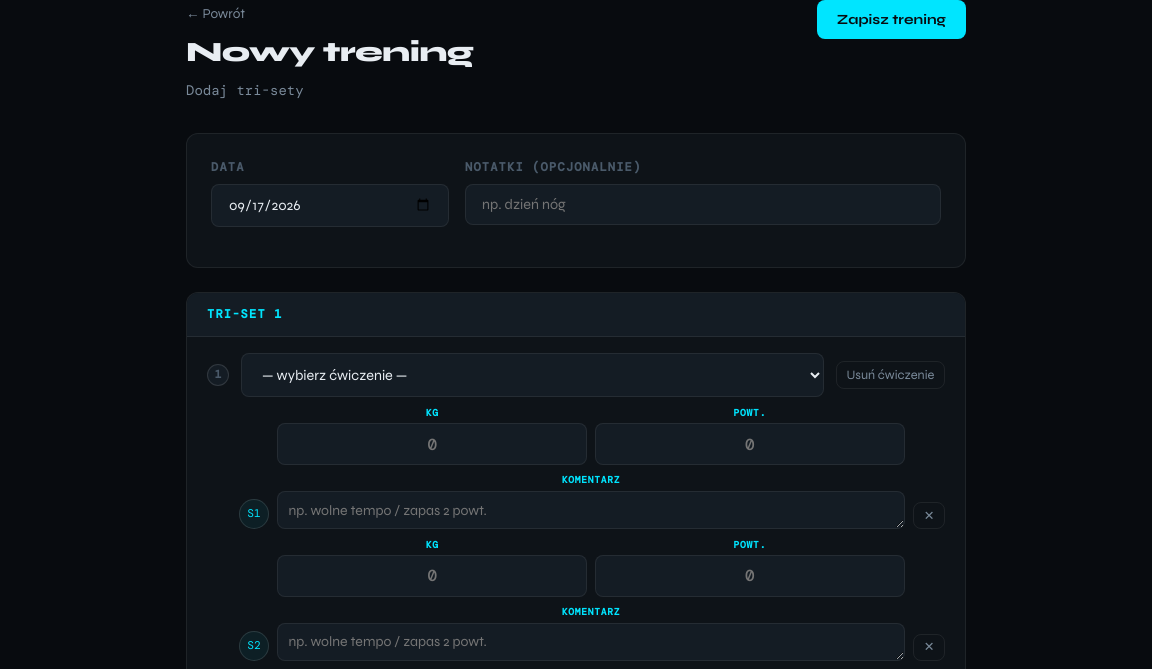
NewSession exercise suggestions › updates muscle-group series summary live while editing
Select "Wykroki z hantlami" in the dropdown at [532, 375], box [241,353,824,397]
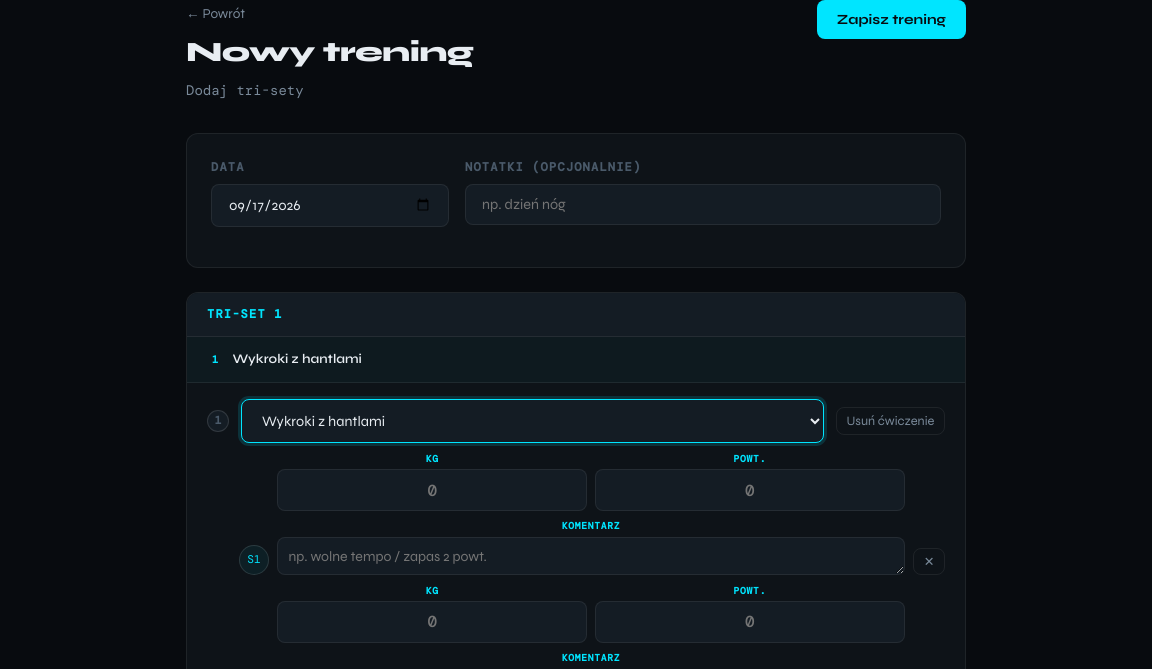
Type "40" into the 1st number field with placeholder "0" at [432, 490], box [277,469,587,511]
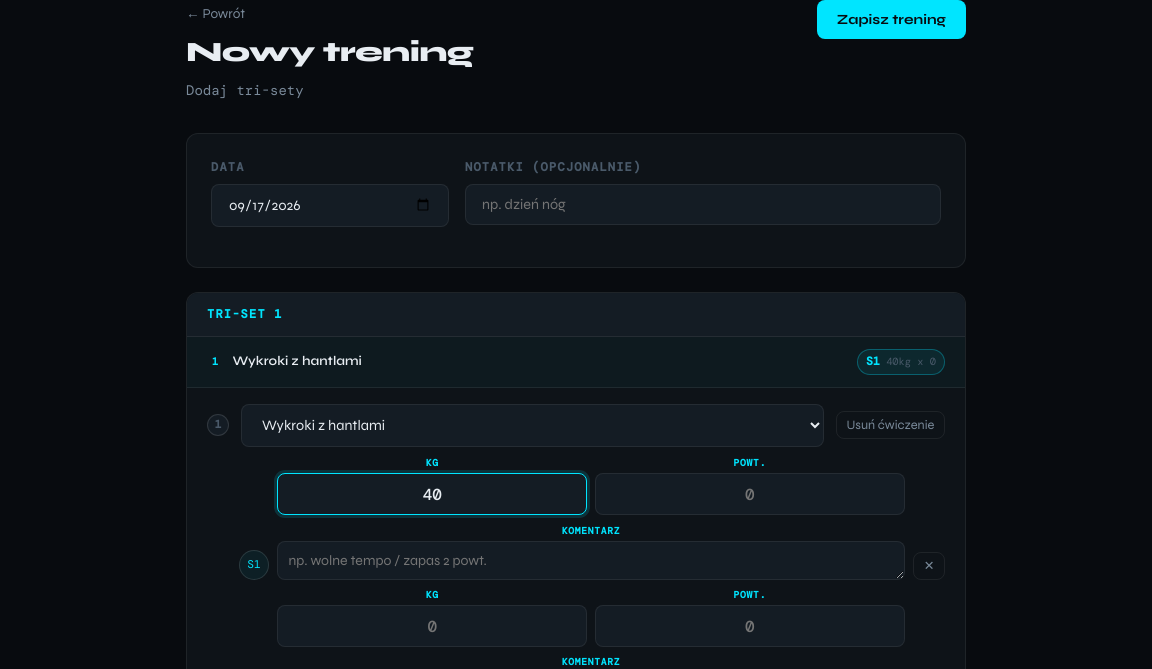
Type "10" into the 1st number field with placeholder "0" at [750, 494], box [595,473,905,516]
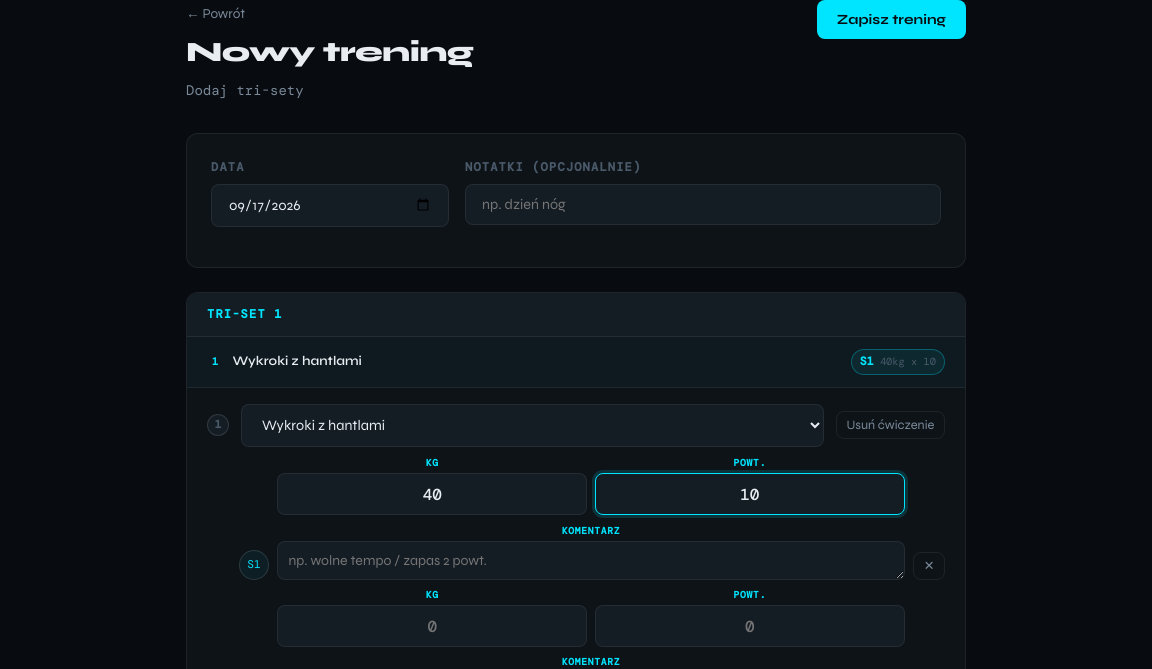
Type "8" into the 2nd number field with placeholder "0" at [750, 626], box [595,605,905,647]
(page scrolled)
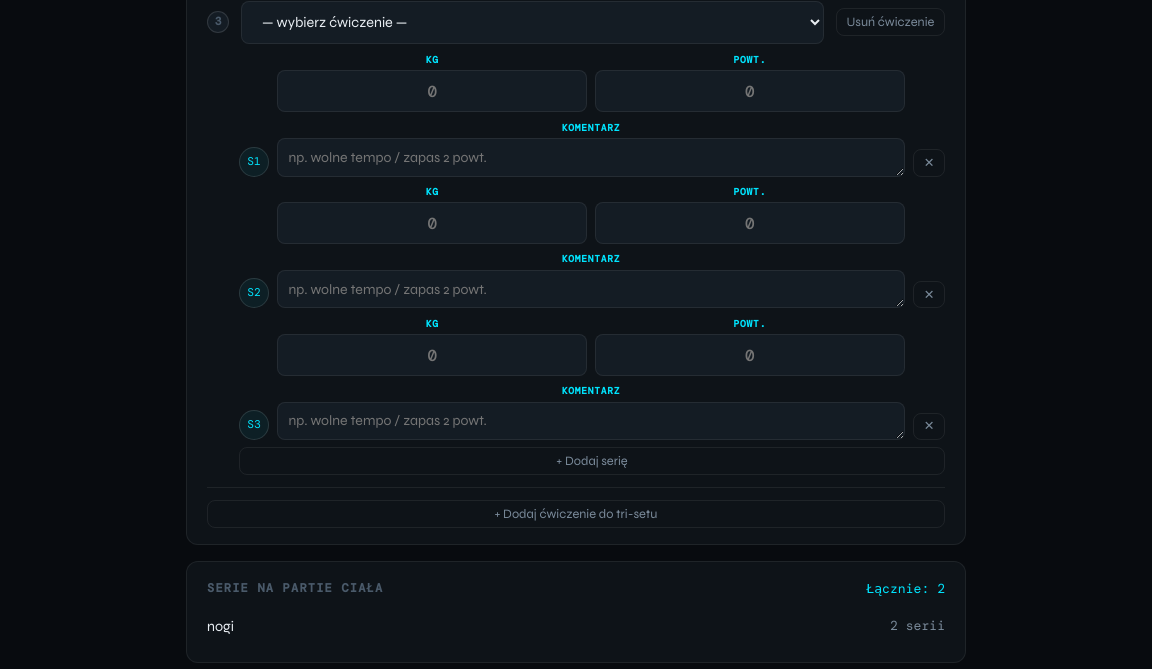
Expected: the text "nogi" is shown, [207,615,234,638]
Expected: the text "Łącznie: 2" is shown, [866,578,945,599]
Expected: the text "2 serii" is shown, [890,615,945,638]
